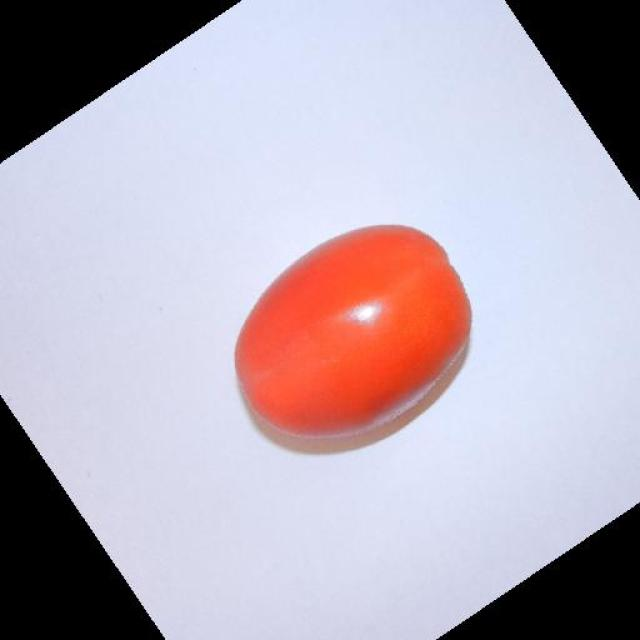ripe tomato: (228, 210, 472, 456)
